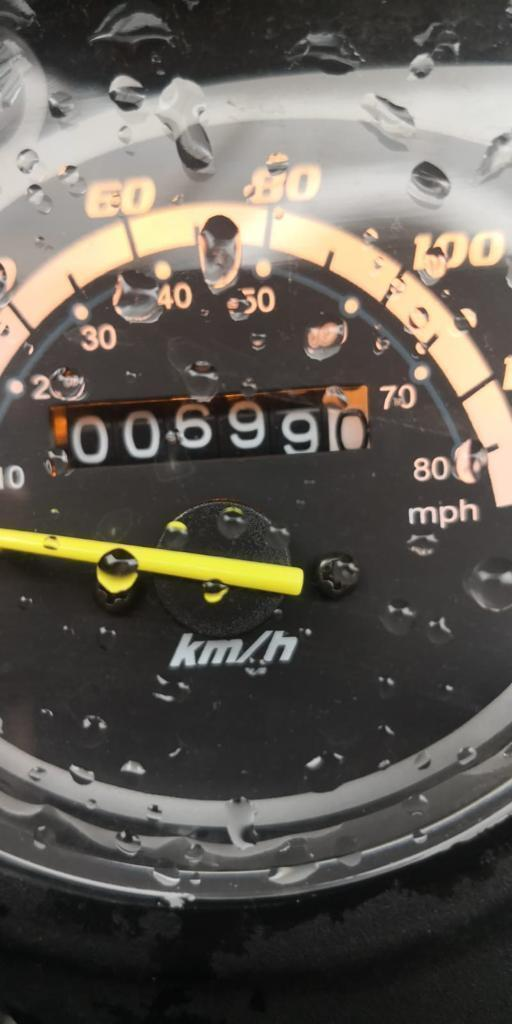0: (66, 409, 111, 470), (330, 405, 373, 466), (120, 404, 161, 462)
6: (172, 399, 211, 459)
9: (226, 395, 267, 458), (280, 403, 320, 462)
odometer: (52, 381, 383, 482)
